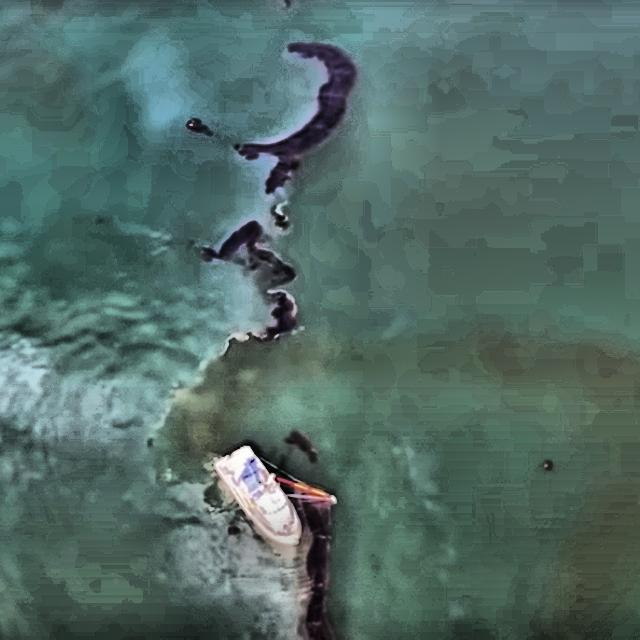truecolor: (235, 42, 357, 192), (261, 456, 337, 640), (201, 221, 298, 346), (287, 432, 318, 464), (271, 203, 290, 230), (186, 118, 212, 136)
